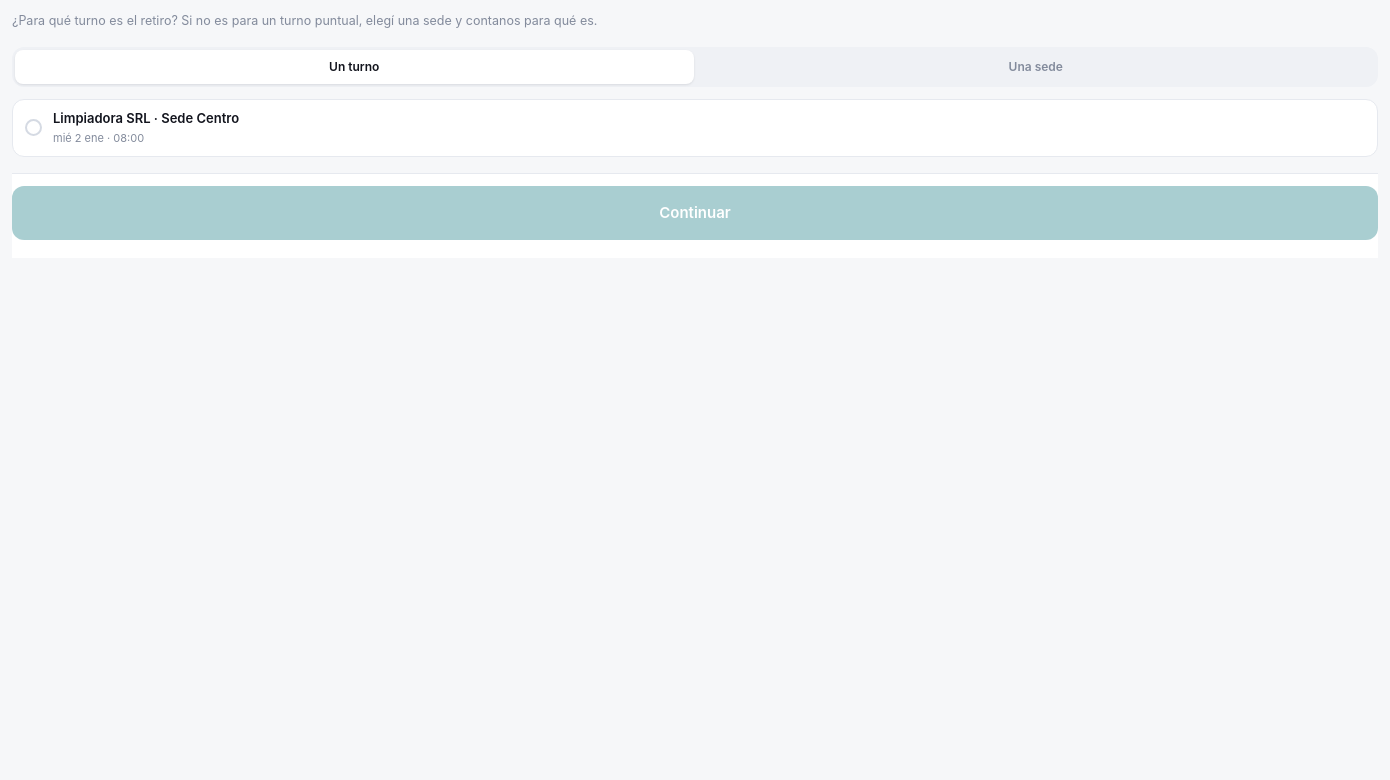
Test case: WithdrawPage › los controles por artículo distinguen la presentación en su nombre accesible
Click the radio button named "Limpiadora SRL · Sede Centro": (34, 128) x1=25 y1=119 x2=42 y2=136
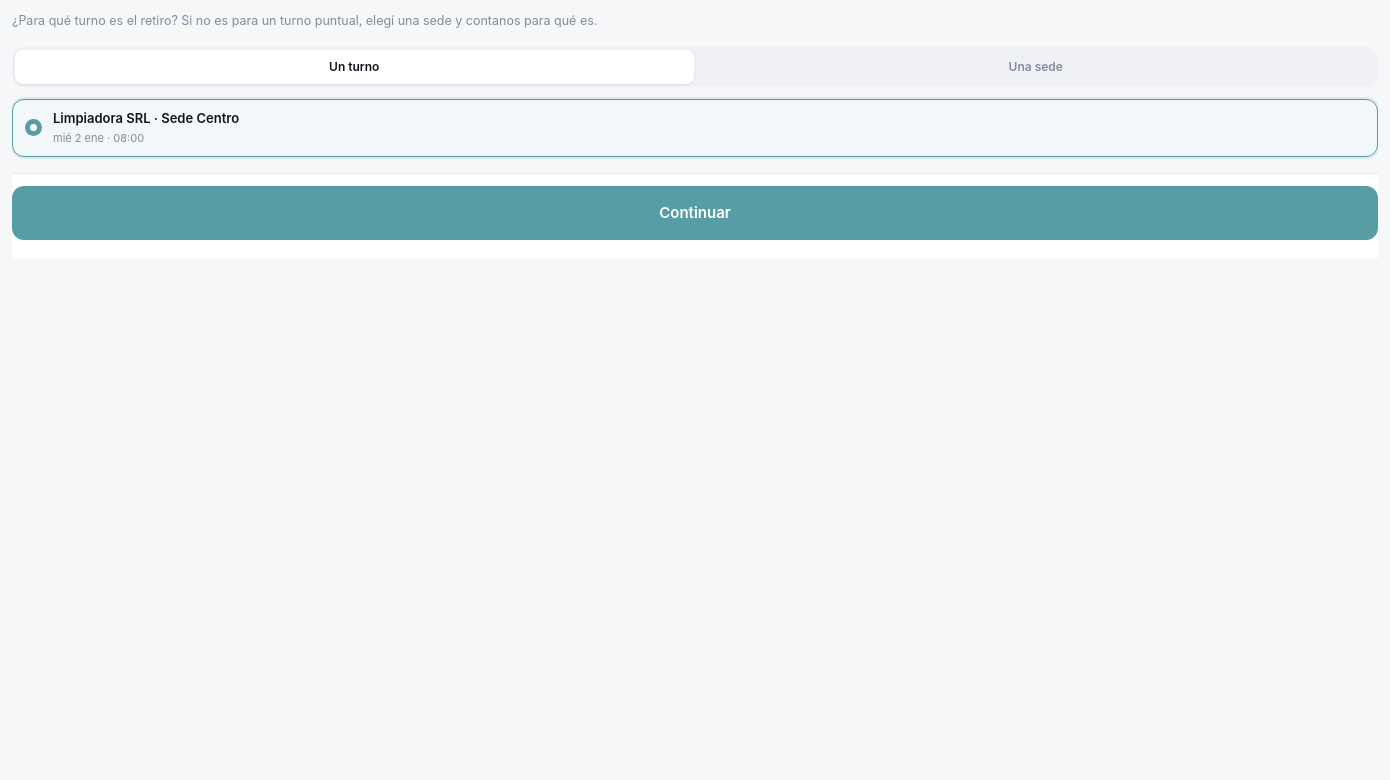
Click the button "Continuar": (695, 213) x1=12 y1=186 x2=1378 y2=240
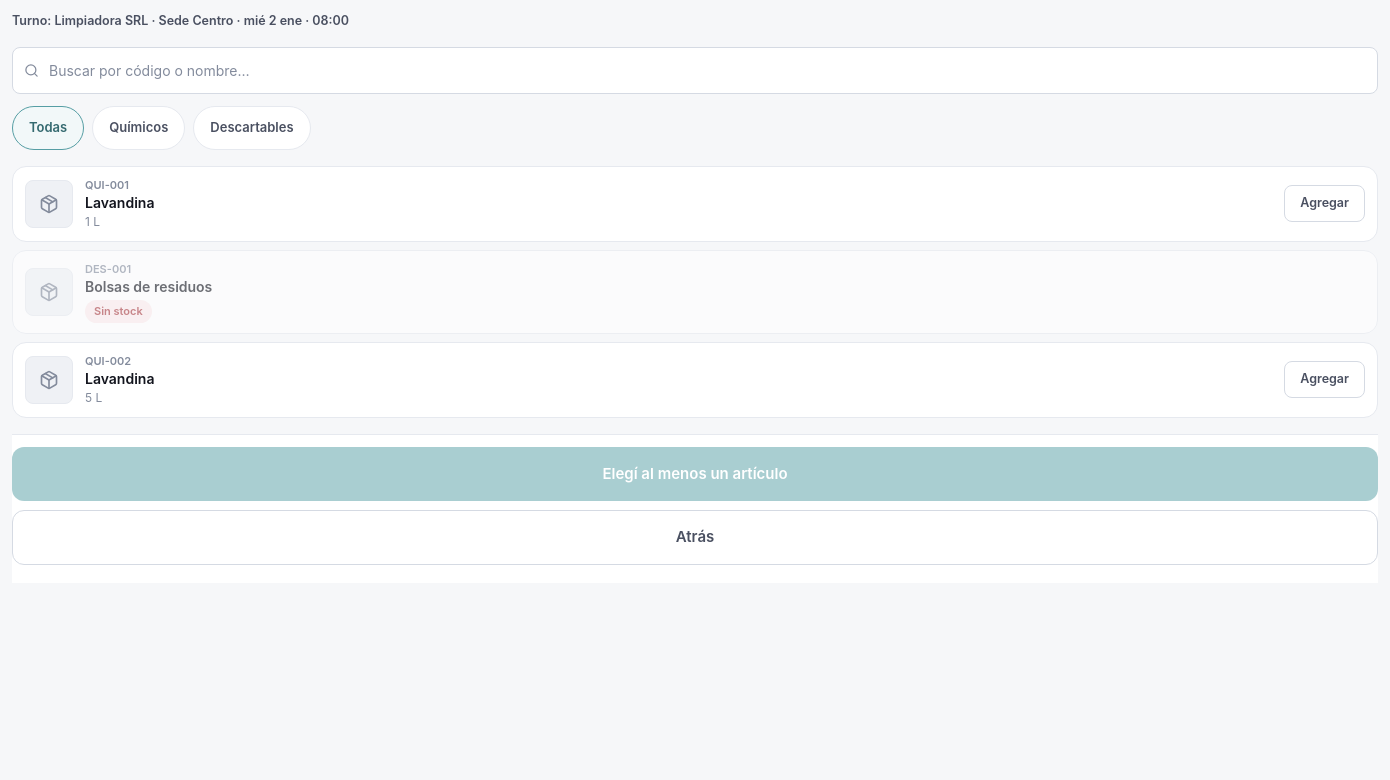
Result: the button with aria-label "Agregar Lavandina · 1 L" is shown at x1=1284 y1=185 x2=1365 y2=222
Click the button with aria-label "Agregar Lavandina · 5 L": (1325, 380) x1=1284 y1=361 x2=1365 y2=398
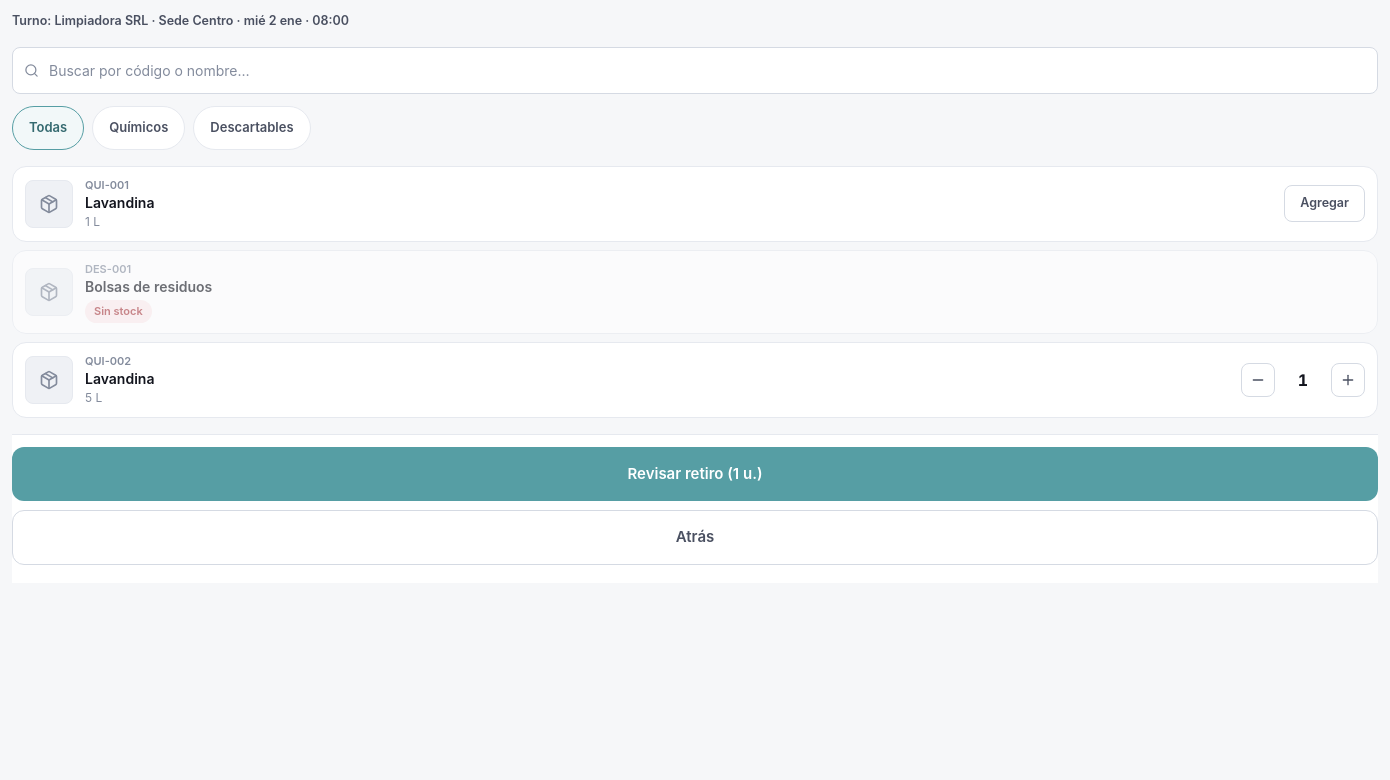
Result: the button named "Restar una unidad de Lavandina · 5 L" is shown at x1=1241 y1=363 x2=1275 y2=397
Result: the button named "Sumar una unidad de Lavandina · 5 L" is shown at x1=1331 y1=363 x2=1365 y2=397
